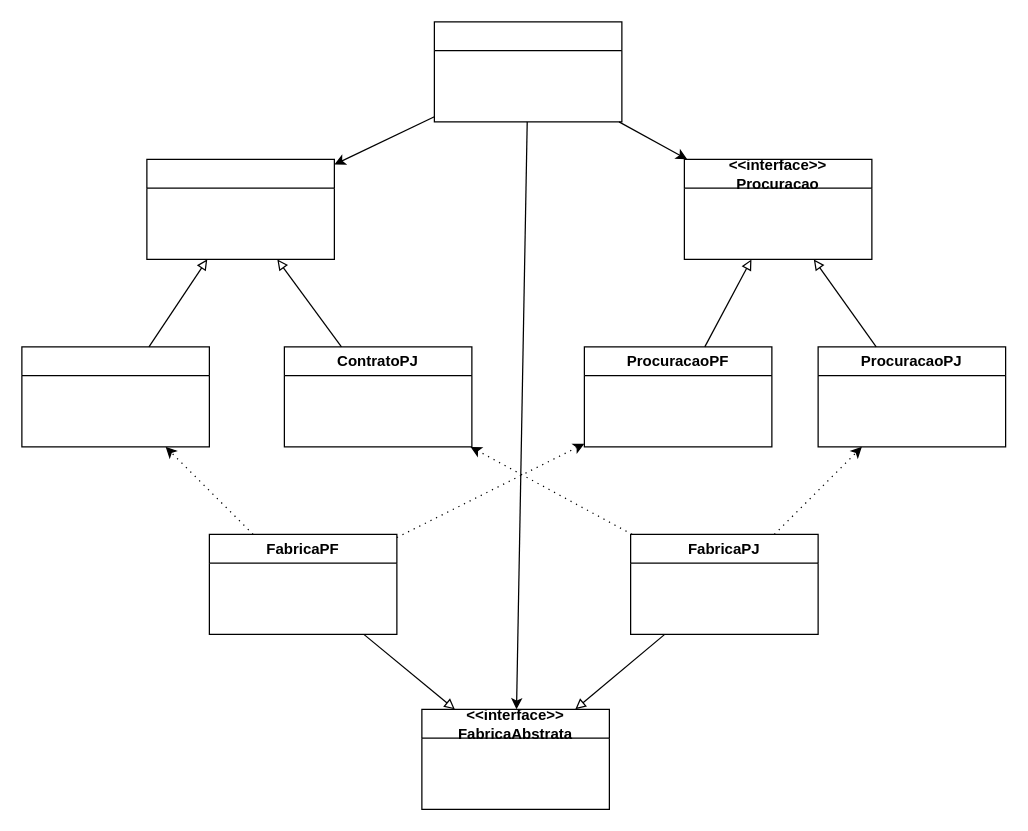
The diagram is 1028 pixels wide and 831 high, and some of its shapes have lost their labels. Each missing label, with the box of its shape:
<<interface>> Contrato: (146, 158, 334, 259)
Cliente: (433, 21, 622, 122)
ContratoPF: (21, 346, 209, 447)
